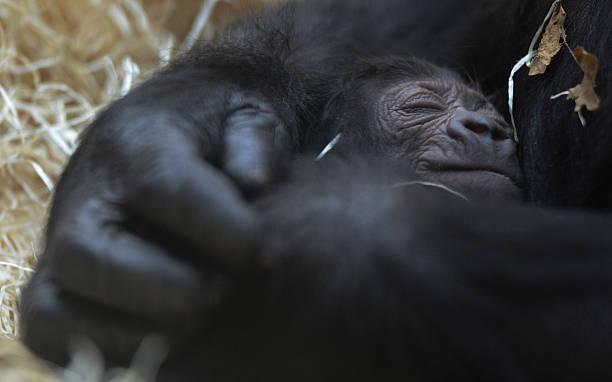gorille_Autres: (261, 0, 611, 273)
